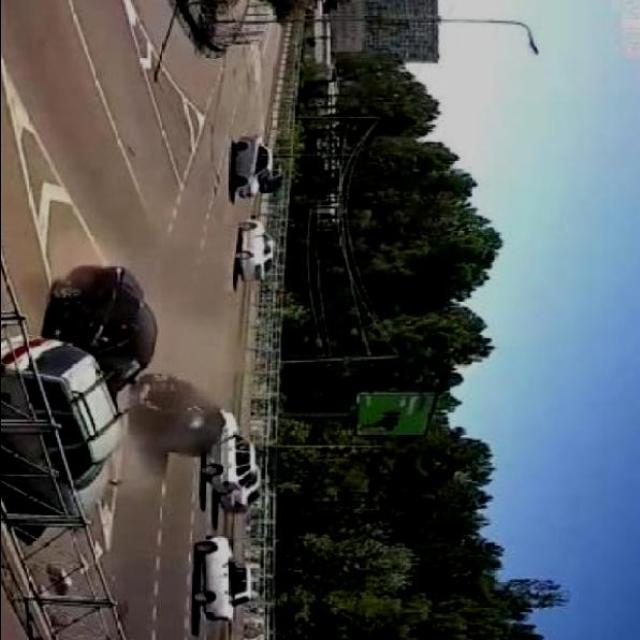accident: (15, 320, 151, 460)
